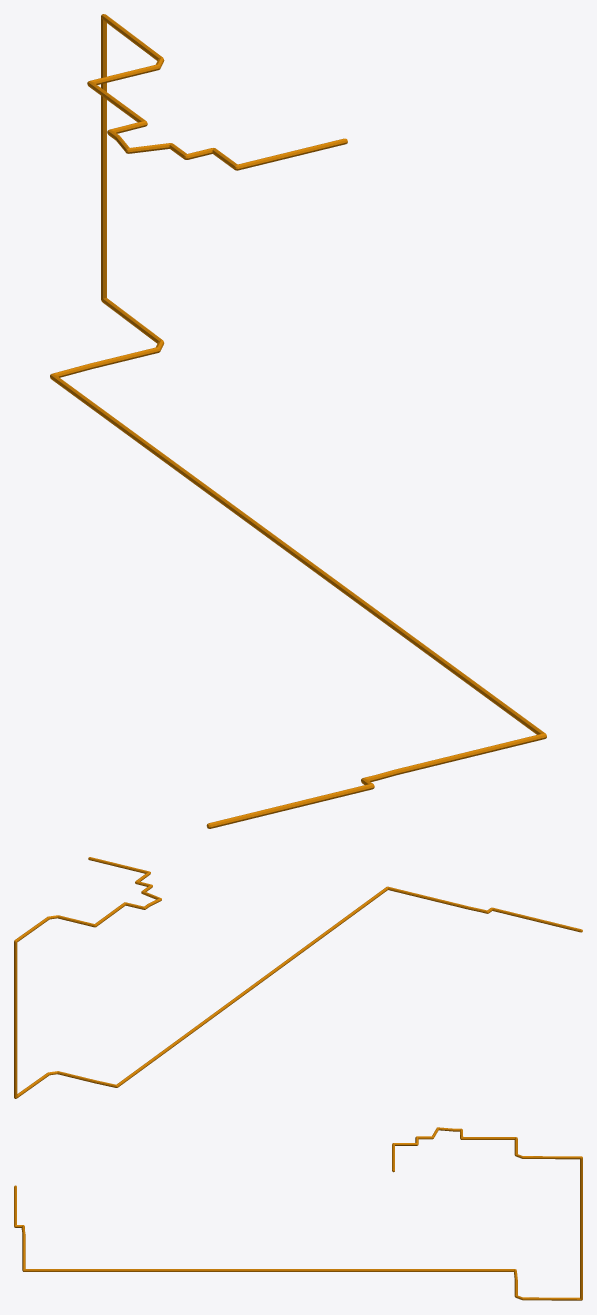
3 renders of one model, top to bottom at view 1: azimuth 30°, elevation 25°; view 2: azimuth 150°, elevation 25°; view 3: azimuth 270°, elevation 25°, orthographic. The views are drawn at different scales.
Bounding box in the file's own units: 1920 × 1020 × 3648.
